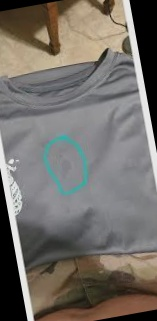oil: (55, 150, 75, 179)
